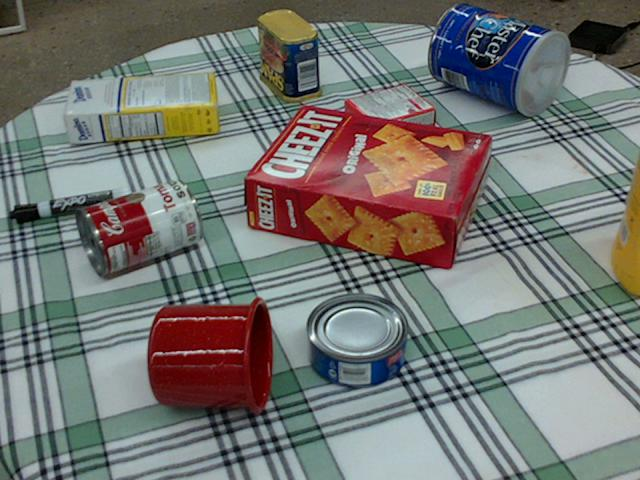cracker_box: (244, 103, 491, 266)
gelatin_box: (342, 80, 435, 145)
large_marker: (9, 186, 129, 223)
master_chef_can: (427, 4, 568, 115)
mug: (146, 292, 273, 412)
mustard_bottle: (610, 148, 639, 293)
potted_meat_can: (257, 9, 321, 101)
sugar_box: (64, 72, 219, 142)
tomato_soup_can: (75, 177, 201, 275)
tuna_fish_can: (305, 293, 408, 388)
